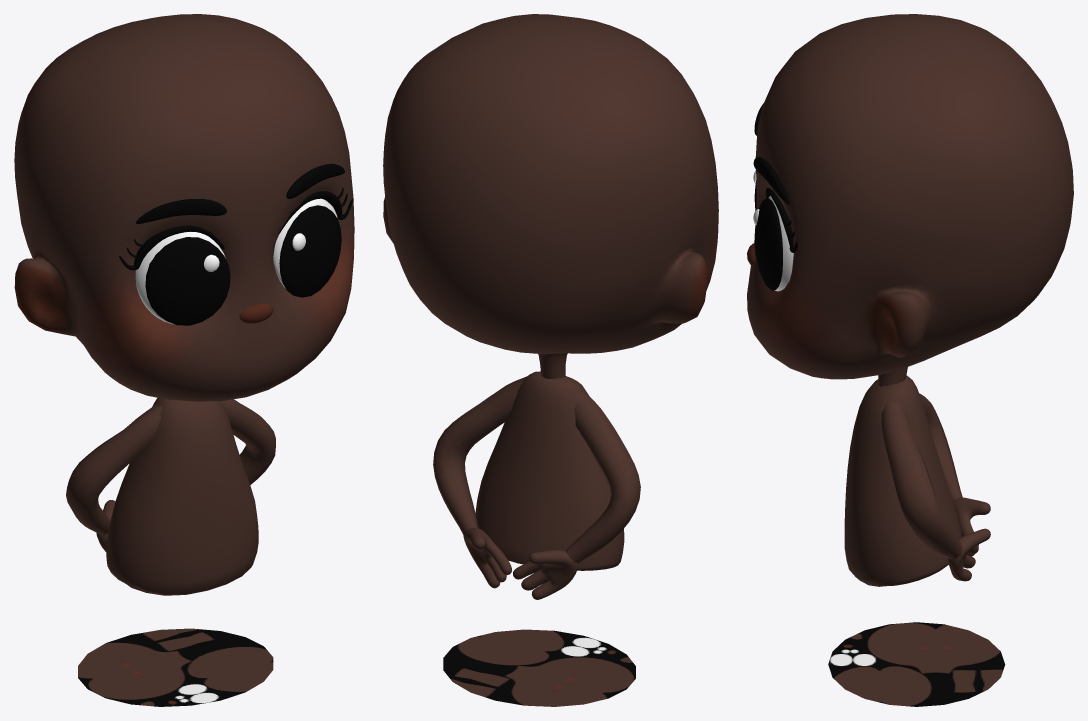
File: NewCharacter2.FBX
3 renders of one model, left to right at view 1: azimuth 30°, elevation 25°; view 2: azimuth 150°, elevation 25°; view 3: azimuth 270°, elevation 25°, orthographic.
Visible parts, largest first — view 1: BodyShape001, Shadow001, Eyes001, Eyebrows 001, Eye_Lashes001; view 2: BodyShape001, Shadow001; view 3: BodyShape001, Shadow001, Eyes001, Eyebrows 001, Eye_Lashes001.
Boxes of the visible parts, x1=… form: BodyShape001: x1=14, y1=14, x2=354, y2=595; Shadow001: x1=78, y1=628, x2=273, y2=706; Eyes001: x1=145, y1=205, x2=341, y2=325; Eyebrows 001: x1=136, y1=163, x2=344, y2=223; Eye_Lashes001: x1=119, y1=188, x2=353, y2=270; BodyShape001: x1=383, y1=14, x2=718, y2=599; Shadow001: x1=443, y1=629, x2=635, y2=706; BodyShape001: x1=747, y1=14, x2=1073, y2=586; Shadow001: x1=828, y1=622, x2=1005, y2=706; Eyes001: x1=754, y1=180, x2=782, y2=290; Eyebrows 001: x1=753, y1=103, x2=789, y2=204; Eye_Lashes001: x1=765, y1=188, x2=797, y2=252.
Size of the model in its own units: 43.38 by 81.66 by 38.5.
